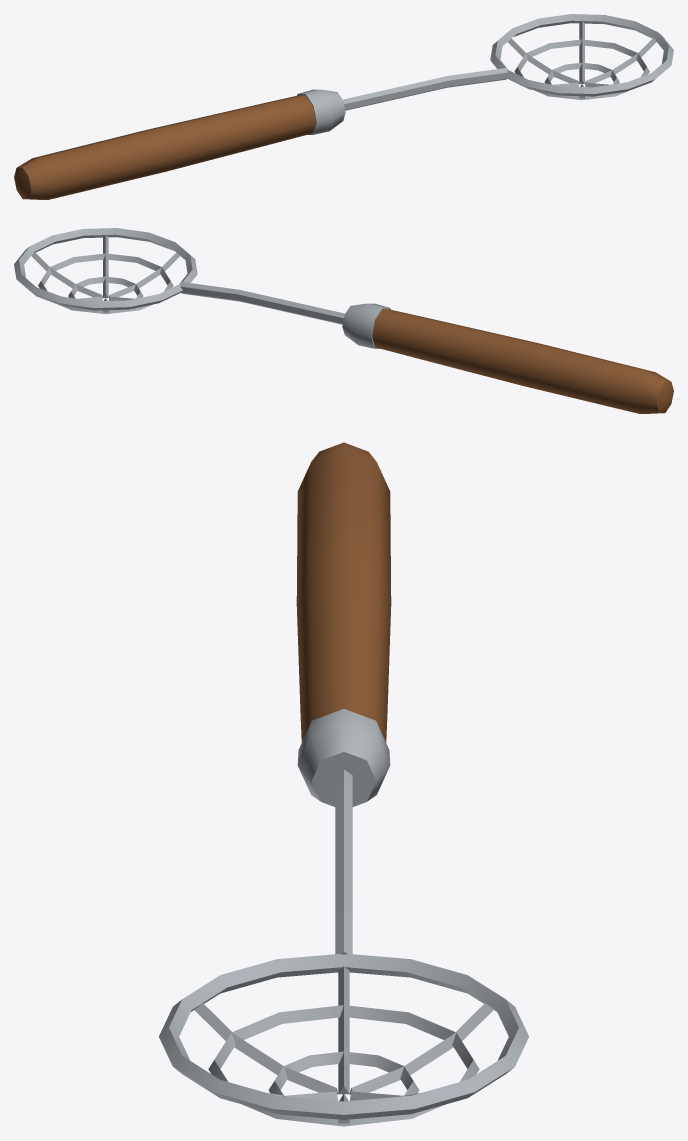
Rendered from slotted_spoon.glb.
The picture shows the model from 3 angles, top to bottom: view 1: azimuth 30°, elevation 25°; view 2: azimuth 150°, elevation 25°; view 3: azimuth 270°, elevation 25°; orthographic projection. The views are drawn at different scales.
Parts seen in each view (by area): view 1: slotted_spoon; view 2: slotted_spoon; view 3: slotted_spoon.
Boxes of the visible parts, x1,y1,x2,y2 form: slotted_spoon: (14, 14, 673, 199); slotted_spoon: (14, 228, 673, 413); slotted_spoon: (159, 442, 528, 1126).
Bounding box in the file's own units: 0.322 × 0.0289 × 0.08.
